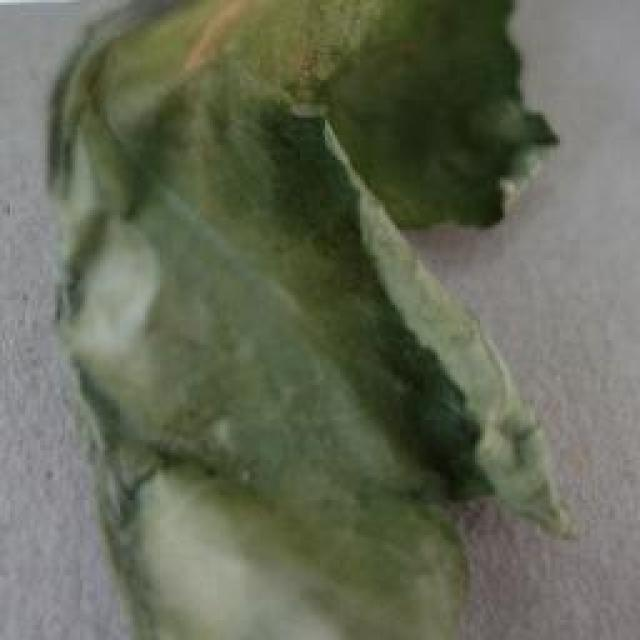Tomato Late Blight: (0, 38, 505, 588)
